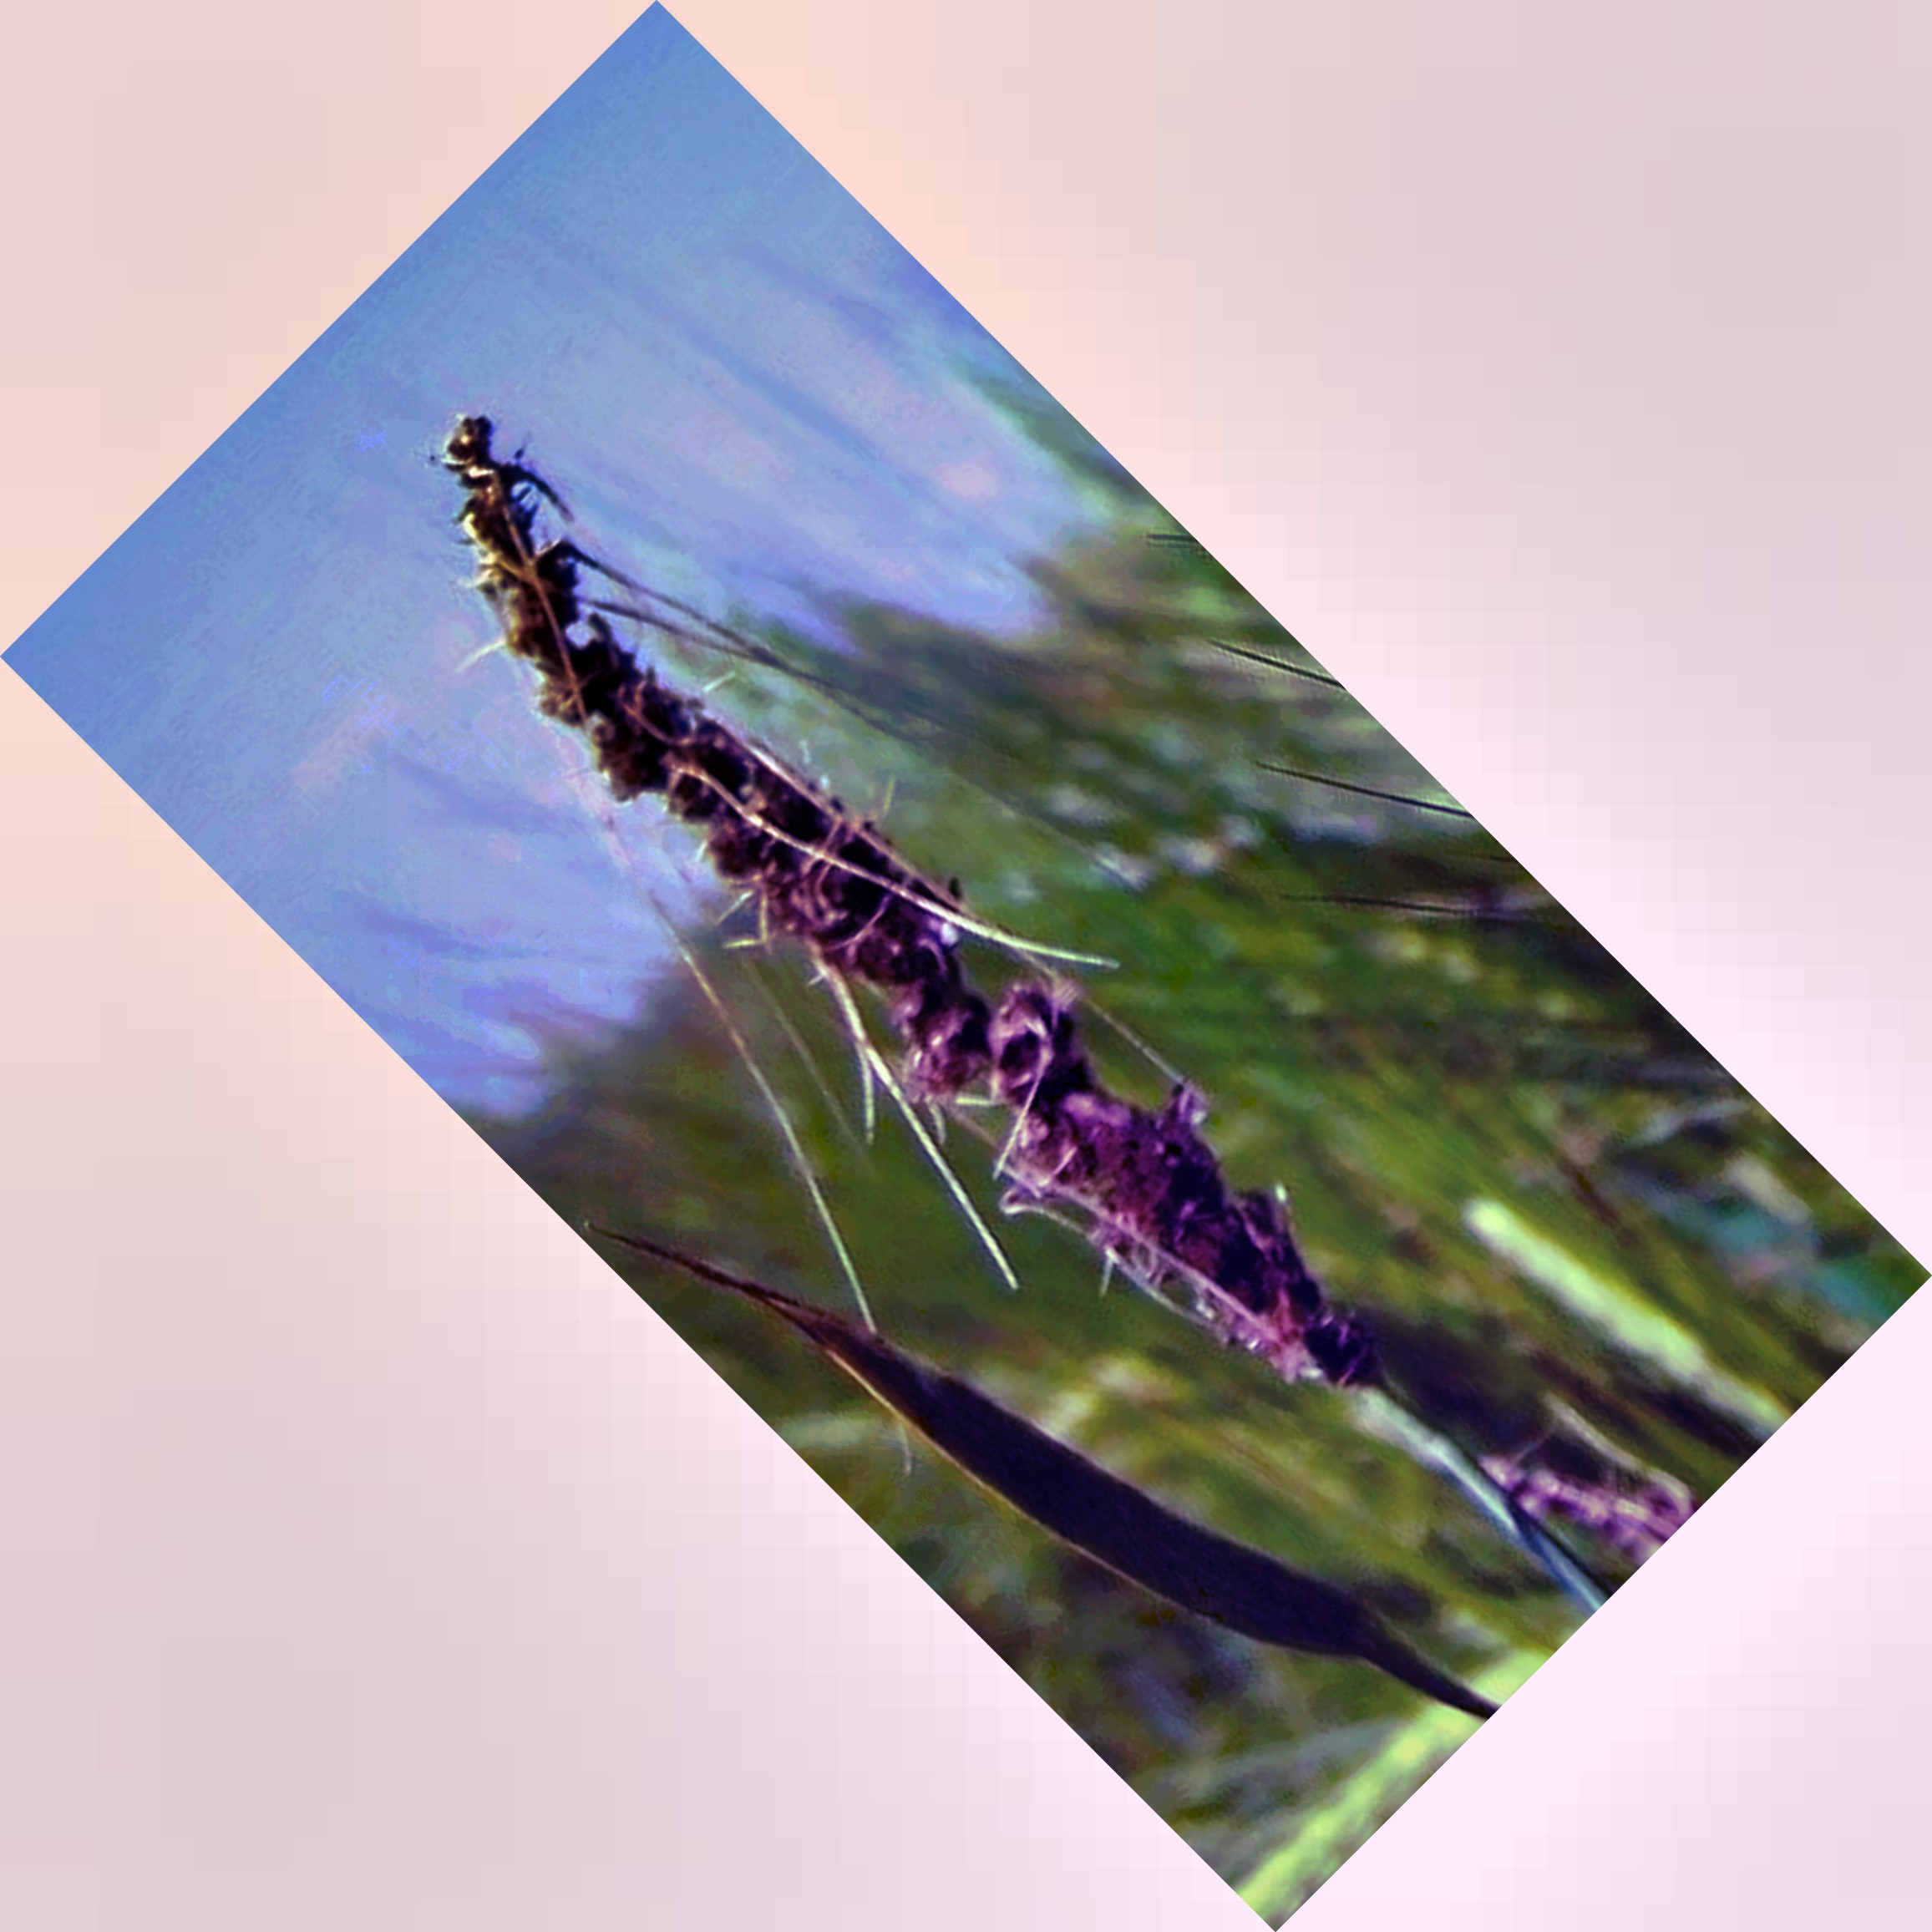Wheat Loose Smut: (465, 600, 1290, 1378)
